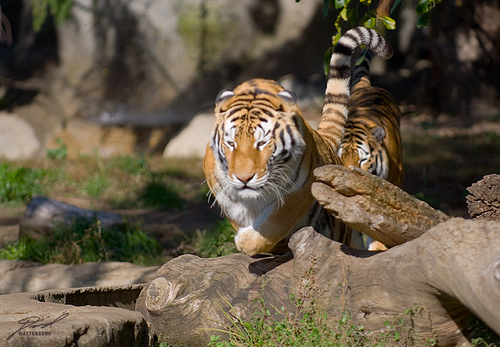Tigre: (199, 74, 341, 268)
